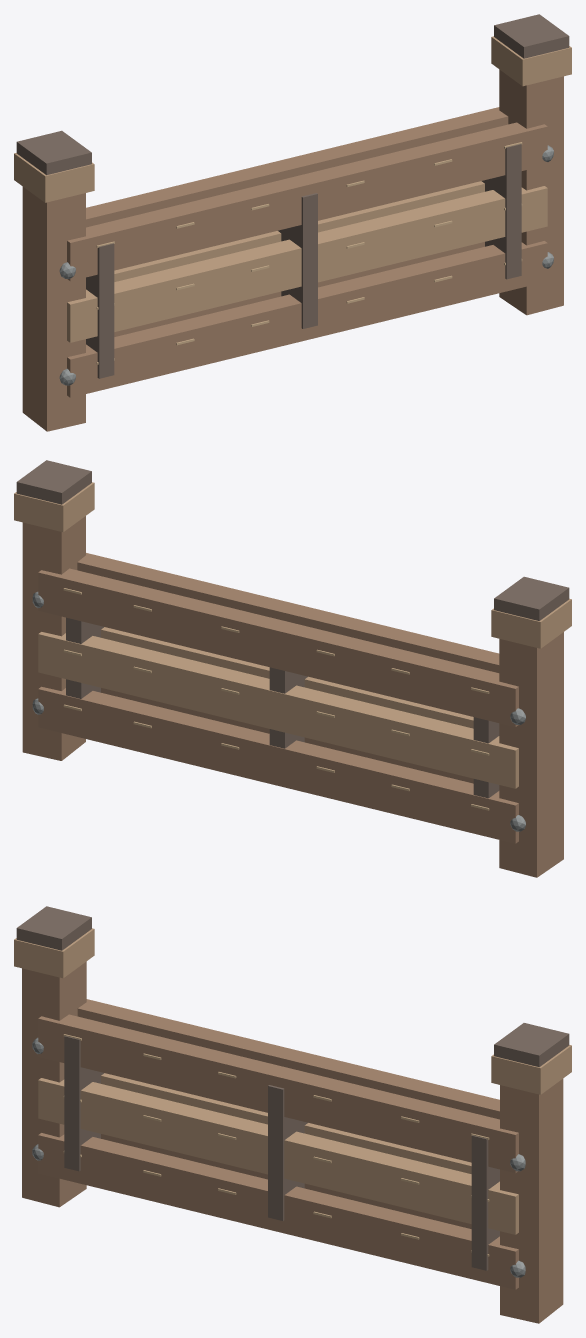
The model's file is fence_wood_3m.glb.
3 views of the same model, one above another, from view 1: azimuth 30°, elevation 25°; view 2: azimuth 150°, elevation 25°; view 3: azimuth 330°, elevation 25° (orthographic).
Parts seen in each view (by area): view 1: fence_wood_3m_wood, fence_wood_3m_wood_light, fence_wood_3m_wood_dark, fence_wood_3m_wood_highlight, fence_wood_3m_iron; view 2: fence_wood_3m_wood, fence_wood_3m_wood_light, fence_wood_3m_wood_dark, fence_wood_3m_wood_highlight, fence_wood_3m_iron; view 3: fence_wood_3m_wood, fence_wood_3m_wood_light, fence_wood_3m_wood_dark, fence_wood_3m_wood_highlight, fence_wood_3m_iron.
Part boxes in pixels (x1,y1,x2,y2): fence_wood_3m_wood: (22, 69, 563, 431); fence_wood_3m_wood_light: (14, 36, 571, 342); fence_wood_3m_wood_dark: (16, 14, 569, 378); fence_wood_3m_wood_highlight: (96, 142, 522, 364); fence_wood_3m_iron: (59, 145, 553, 385); fence_wood_3m_wood: (22, 516, 563, 877); fence_wood_3m_wood_light: (14, 482, 571, 788); fence_wood_3m_wood_dark: (16, 460, 569, 798); fence_wood_3m_wood_highlight: (63, 588, 489, 810); fence_wood_3m_iron: (32, 591, 525, 831); fence_wood_3m_wood: (22, 961, 563, 1323); fence_wood_3m_wood_light: (14, 928, 571, 1234); fence_wood_3m_wood_dark: (16, 906, 569, 1270); fence_wood_3m_wood_highlight: (63, 1034, 489, 1256); fence_wood_3m_iron: (32, 1037, 525, 1277).
Size of the model in its own units: 3.31 by 1.62 by 0.3791.
